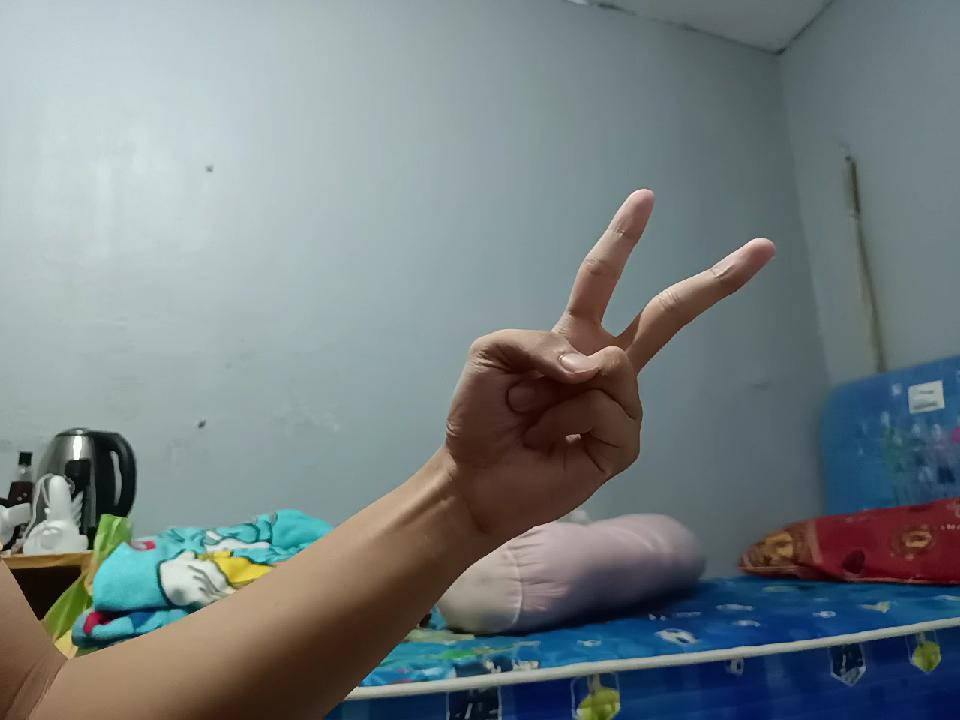scissors: (432, 168, 767, 540)
